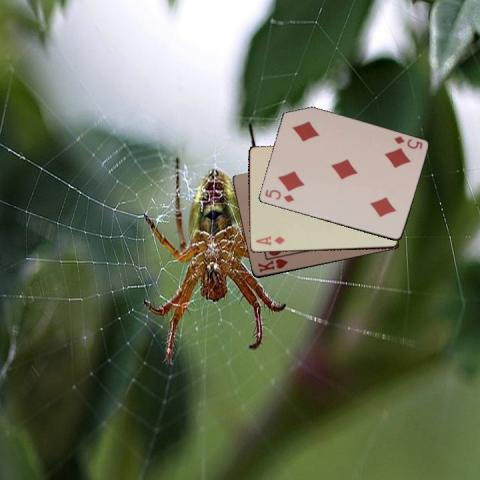5d: (262, 186, 296, 204), (391, 133, 424, 151)
Ad: (252, 234, 286, 248)
Kh: (255, 256, 289, 274)
